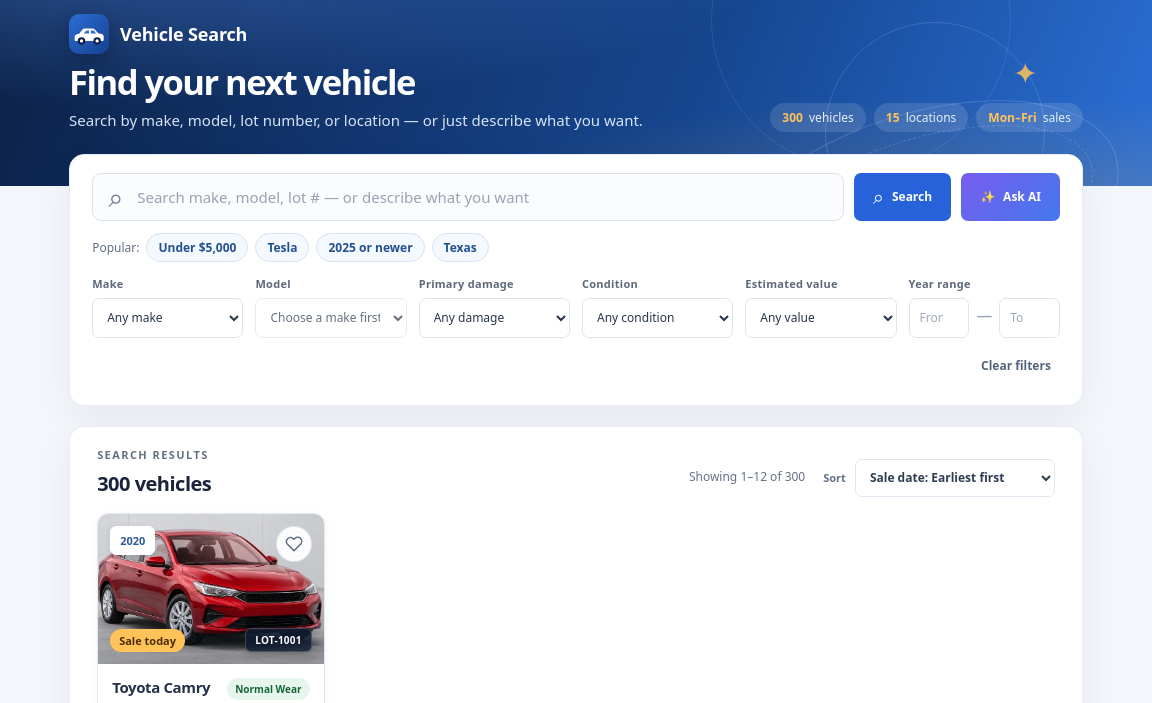
Test: search state regressions › clear filters also clears the AI search text and any pending AI question
Expected: the heading "300 vehicles" is shown, x1=97 y1=470 x2=211 y2=497
In the search field named "search by vehicle": (482, 197) x1=135 y1=186 x2=828 y2=208, type "a newer SUV"
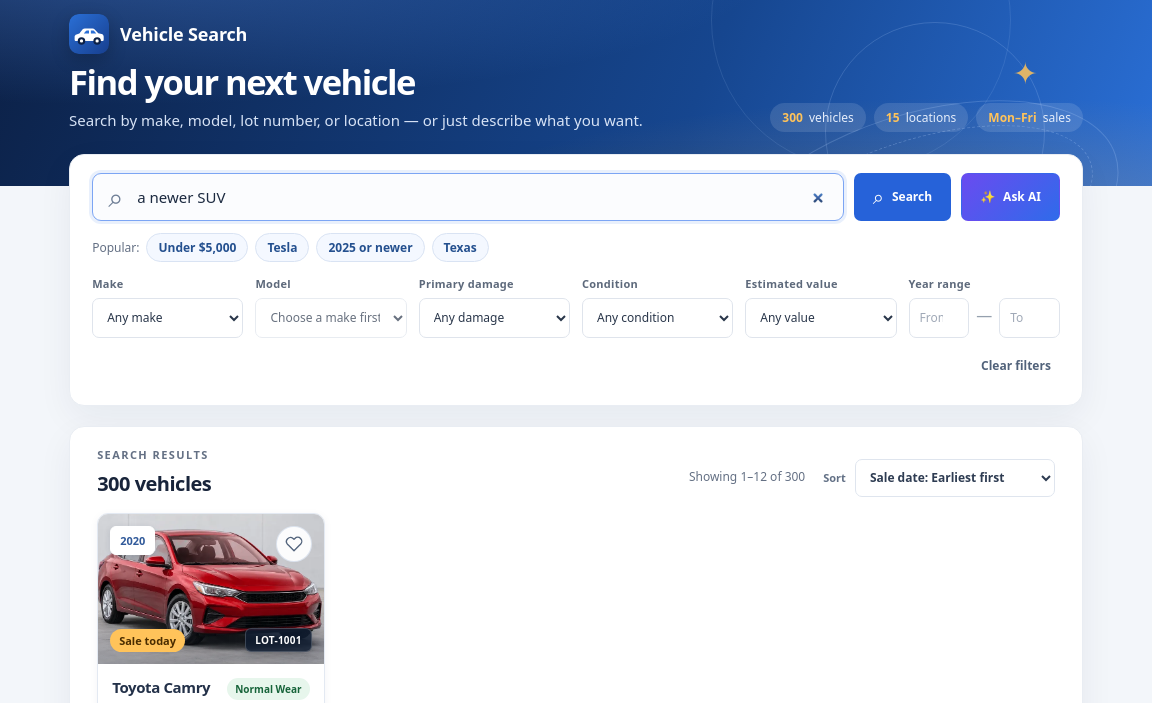
Click the button "✨ Ask AI": click(1010, 197) x1=961 y1=173 x2=1060 y2=221
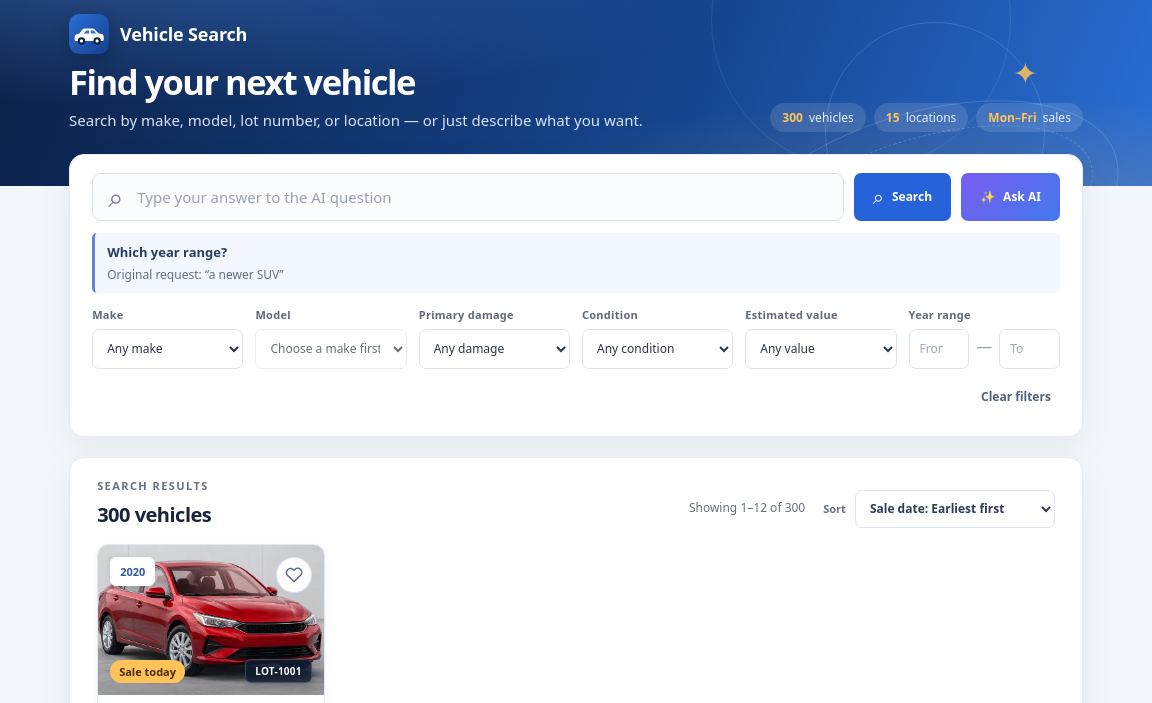
Now the text "Which year range?" is shown, box x1=107 y1=243 x2=227 y2=261
Click the button "Clear filters": click(1016, 396) x1=972 y1=377 x2=1060 y2=416
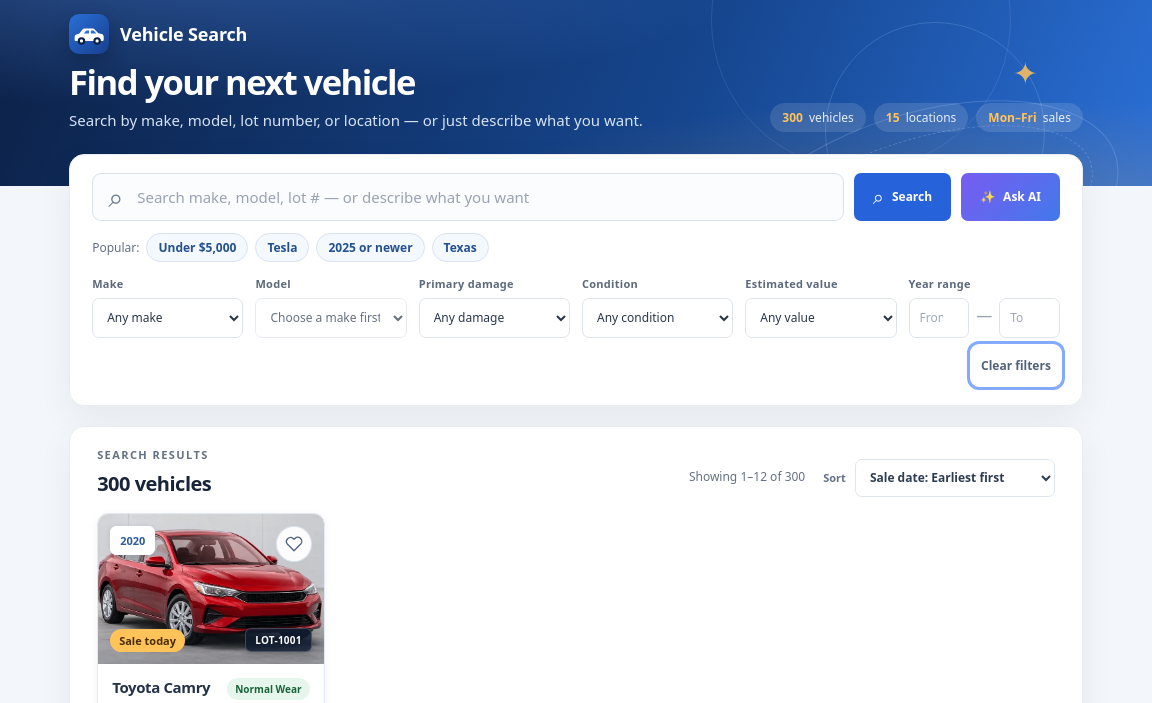
Now the search field named "search by vehicle" is empty, box x1=135 y1=186 x2=828 y2=208
Now the text "Which year range?" is gone
